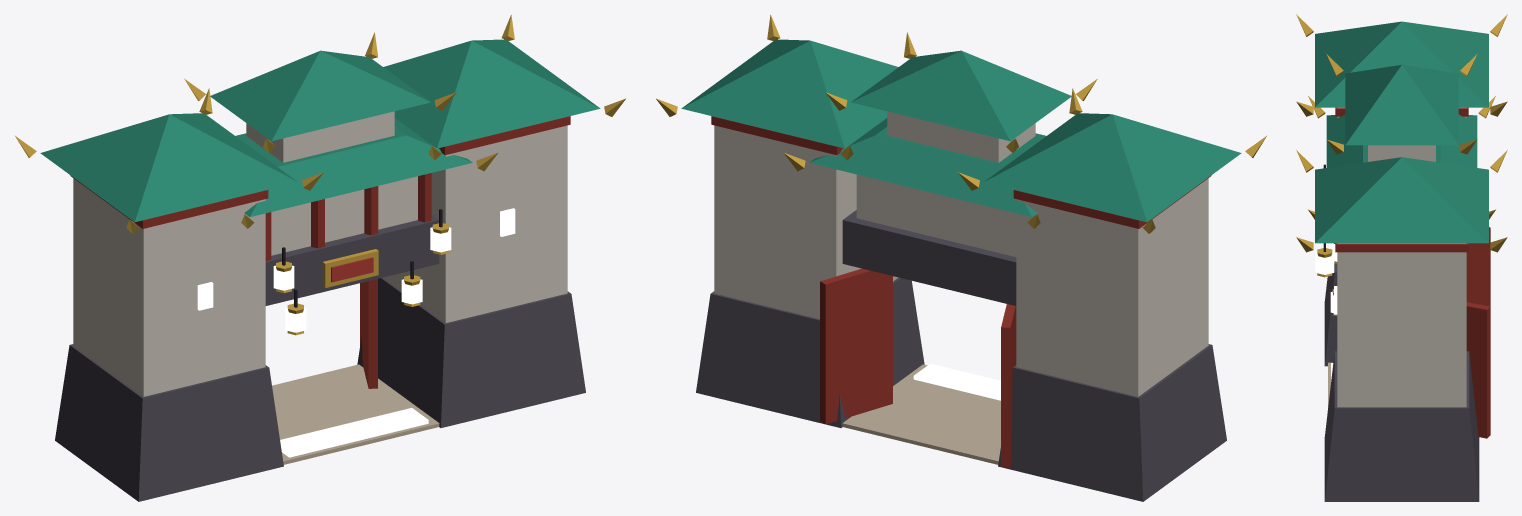
The model's file is gate_t3.glb.
3 renders of one model, left to right at view 1: azimuth 30°, elevation 25°; view 2: azimuth 150°, elevation 25°; view 3: azimuth 270°, elevation 25°, orthographic. The views are drawn at different scales.
Visible parts, largest first — view 1: body, glow; view 2: body, glow; view 3: body, glow.
Part boxes in pixels (box(x1,y1,x2,y2)): body: box(15, 14, 625, 501); glow: box(197, 208, 515, 457); body: box(656, 14, 1266, 501); glow: box(913, 363, 1000, 400); body: box(1296, 14, 1507, 501); glow: box(1315, 243, 1337, 381).
Bounding box in the file's own units: 4.28 × 3.01 × 1.72.
